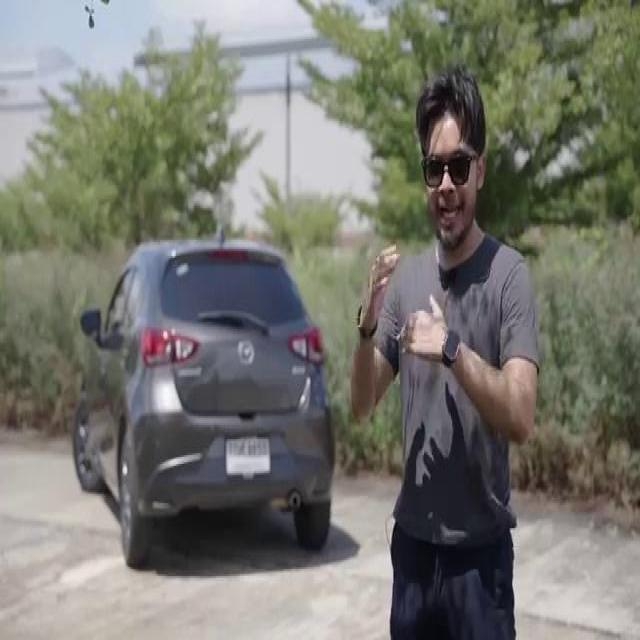Hatchback: (73, 231, 334, 567)
